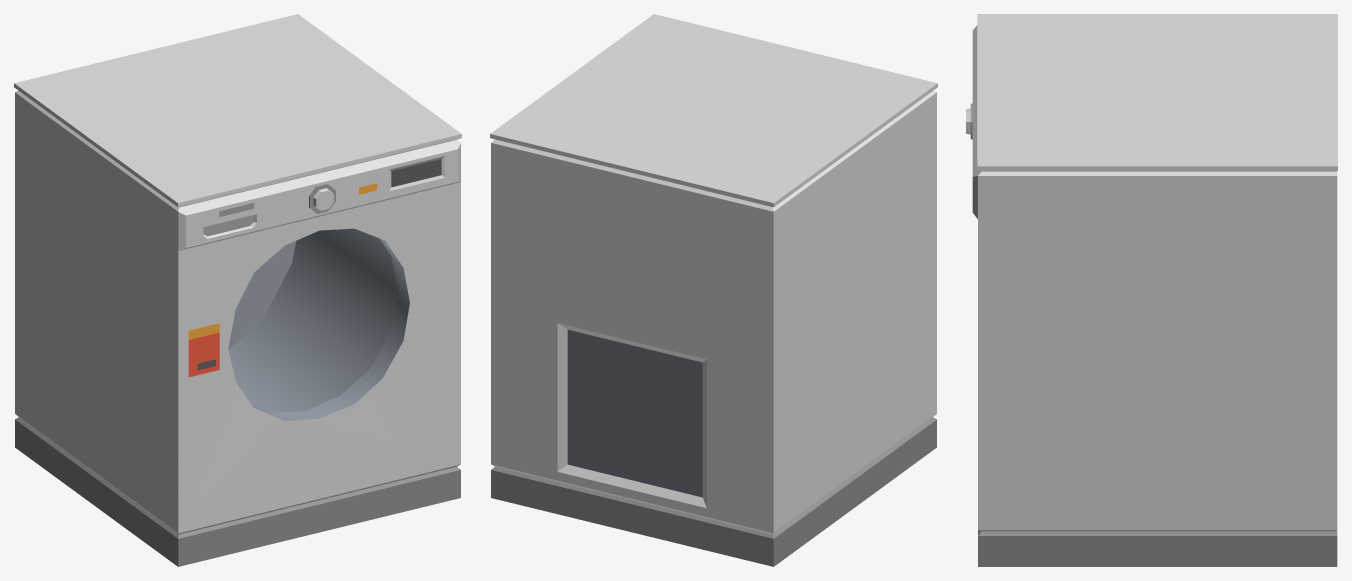
The model's file is SM_Prop_Laundry_WasherFront_01.obj.
3 views of the same model, side by side, from view 1: azimuth 30°, elevation 25°; view 2: azimuth 150°, elevation 25°; view 3: azimuth 270°, elevation 25° (orthographic). The views are drawn at different scales.
Visible parts, largest first — view 1: SM_Prop_Laundry_WasherFront_01_Mat_SwatchOverlay_PolygonTown_01_; view 2: SM_Prop_Laundry_WasherFront_01_Mat_SwatchOverlay_PolygonTown_01_; view 3: SM_Prop_Laundry_WasherFront_01_Mat_SwatchOverlay_PolygonTown_01_.
Part boxes in pixels (left/top/right/bottom): SM_Prop_Laundry_WasherFront_01_Mat_SwatchOverlay_PolygonTown_01_: left=14, top=14, right=461, bottom=566; SM_Prop_Laundry_WasherFront_01_Mat_SwatchOverlay_PolygonTown_01_: left=490, top=14, right=937, bottom=566; SM_Prop_Laundry_WasherFront_01_Mat_SwatchOverlay_PolygonTown_01_: left=966, top=14, right=1337, bottom=566.
Size of the model in its own units: 1 by 1.23 by 1.03.
Materials: 1 (1 with a texture image).
